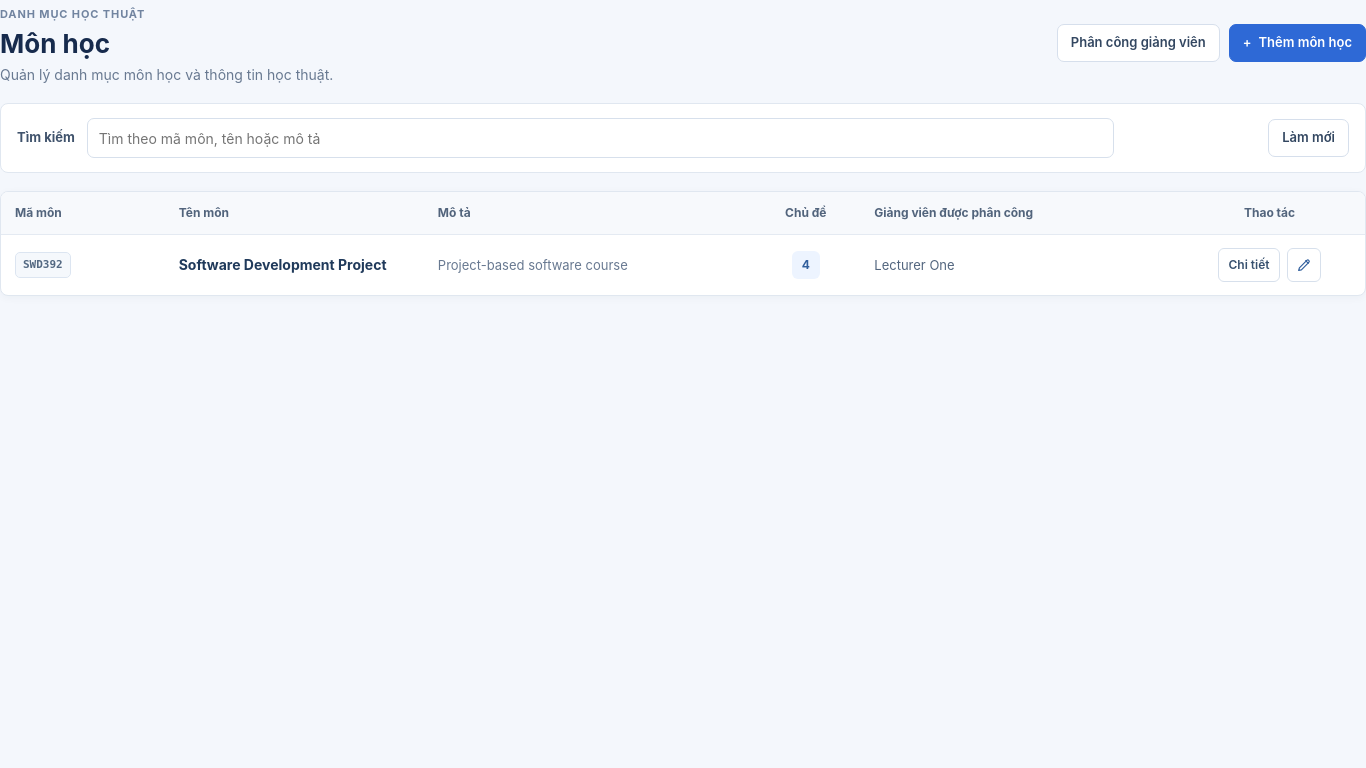
it: SubjectsPage › loads edit details, submits all fields, and updates the row from the server response
The width and height of the screenshot is (1366, 768).
Expected: the text "SWD392" is shown, x1=15 y1=252 x2=71 y2=278
Click the button named "Sửa".
click(1304, 265)  # box x1=1286 y1=248 x2=1320 y2=282
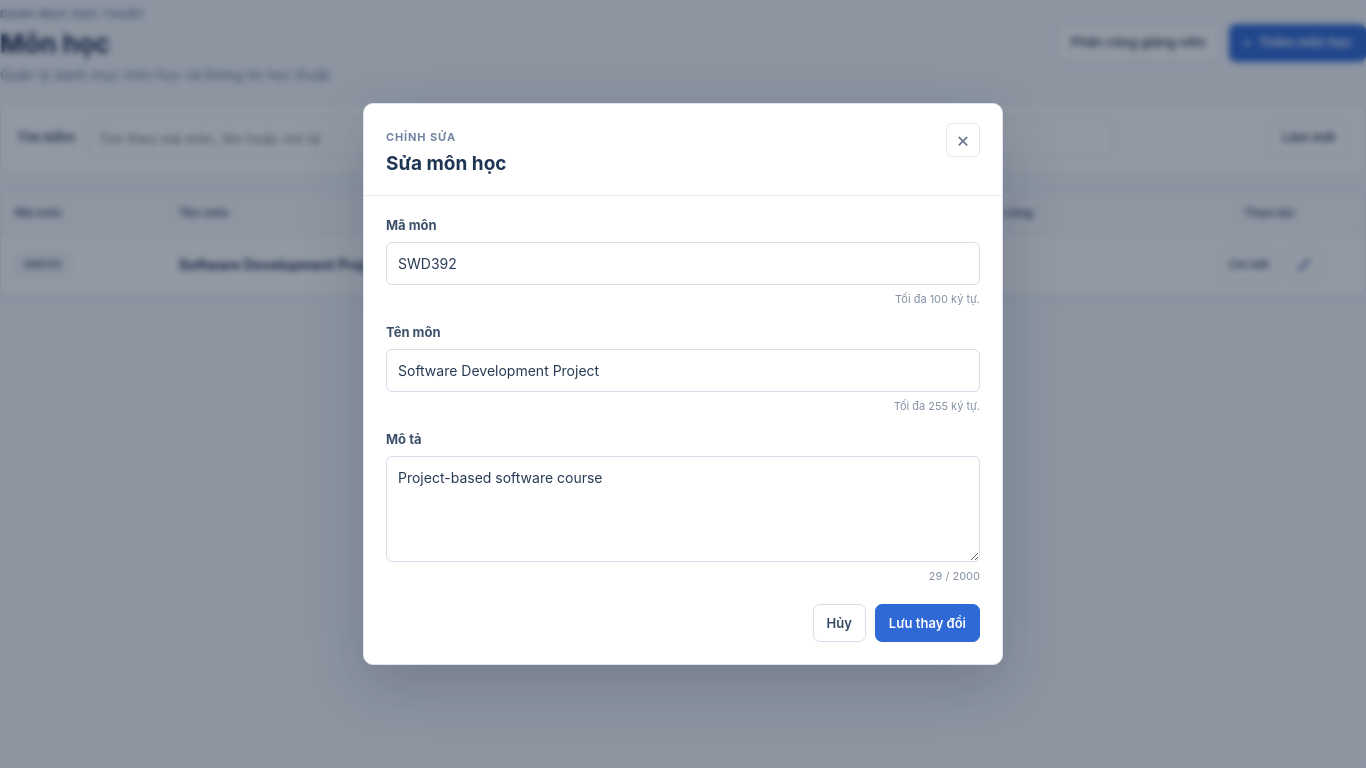
Result: the field showing "Software Development Project" is shown at x1=386 y1=349 x2=980 y2=392
Replace the text in the field labelled "Mã môn" with "SWD393" at (683, 263), box x1=386 y1=242 x2=980 y2=285
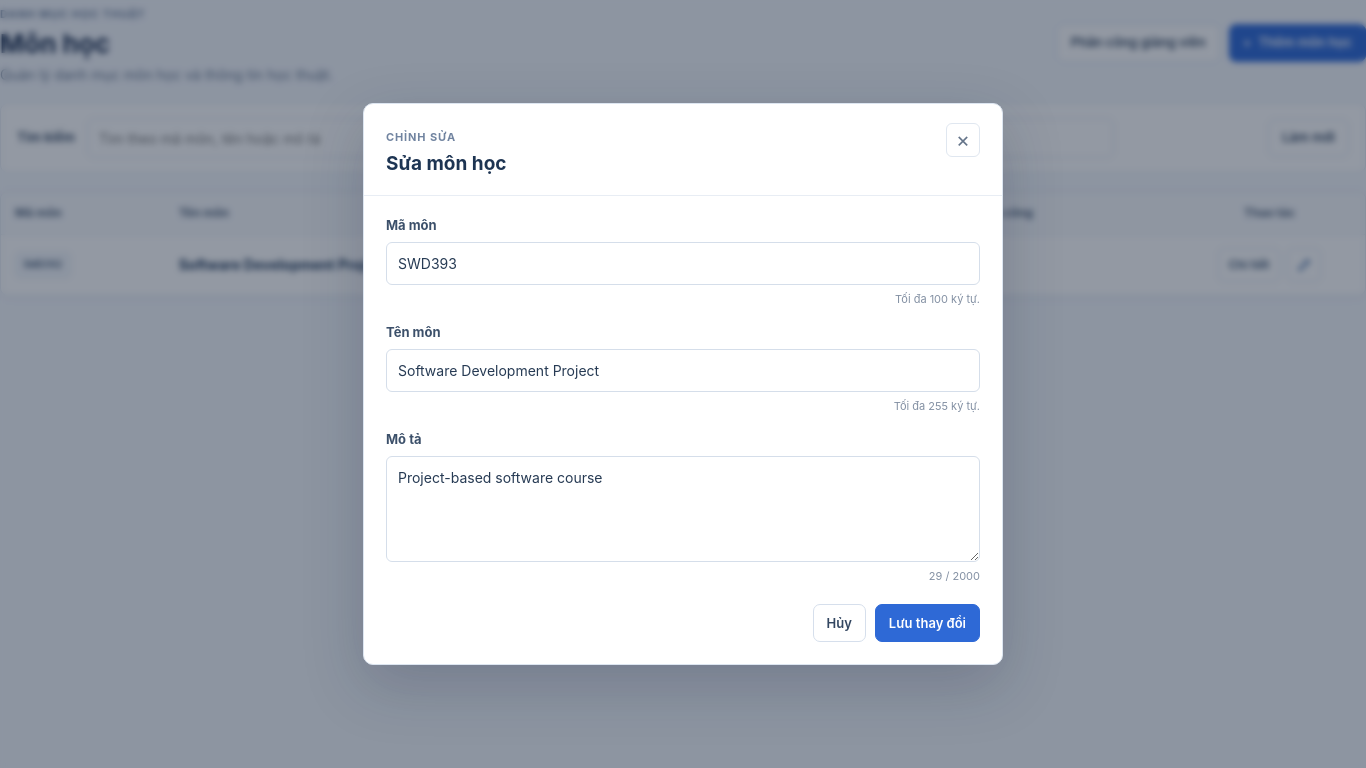
Replace the text in the field labelled "Tên môn" with "Updated Project" at (683, 370), box x1=386 y1=349 x2=980 y2=392
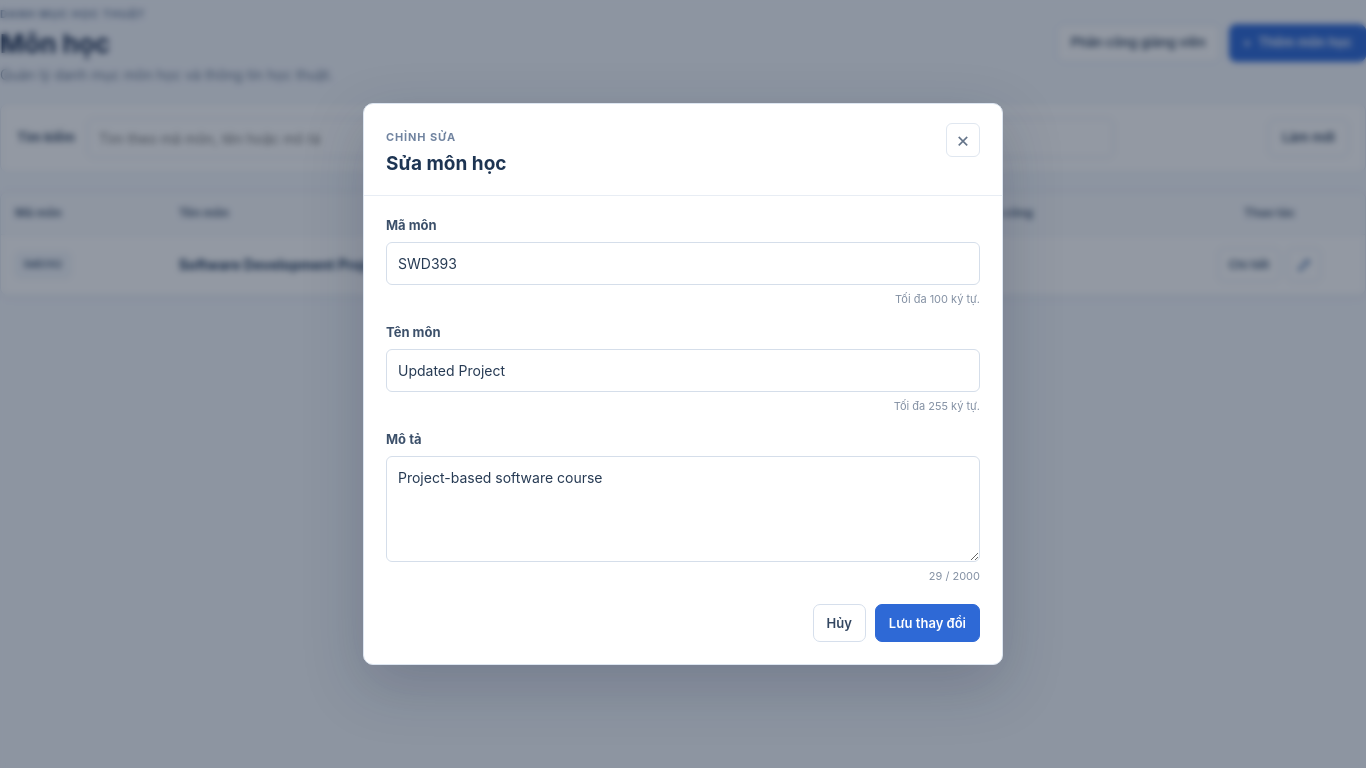
Clear the text box labelled "Mô tả" at (683, 509), box x1=386 y1=456 x2=980 y2=562
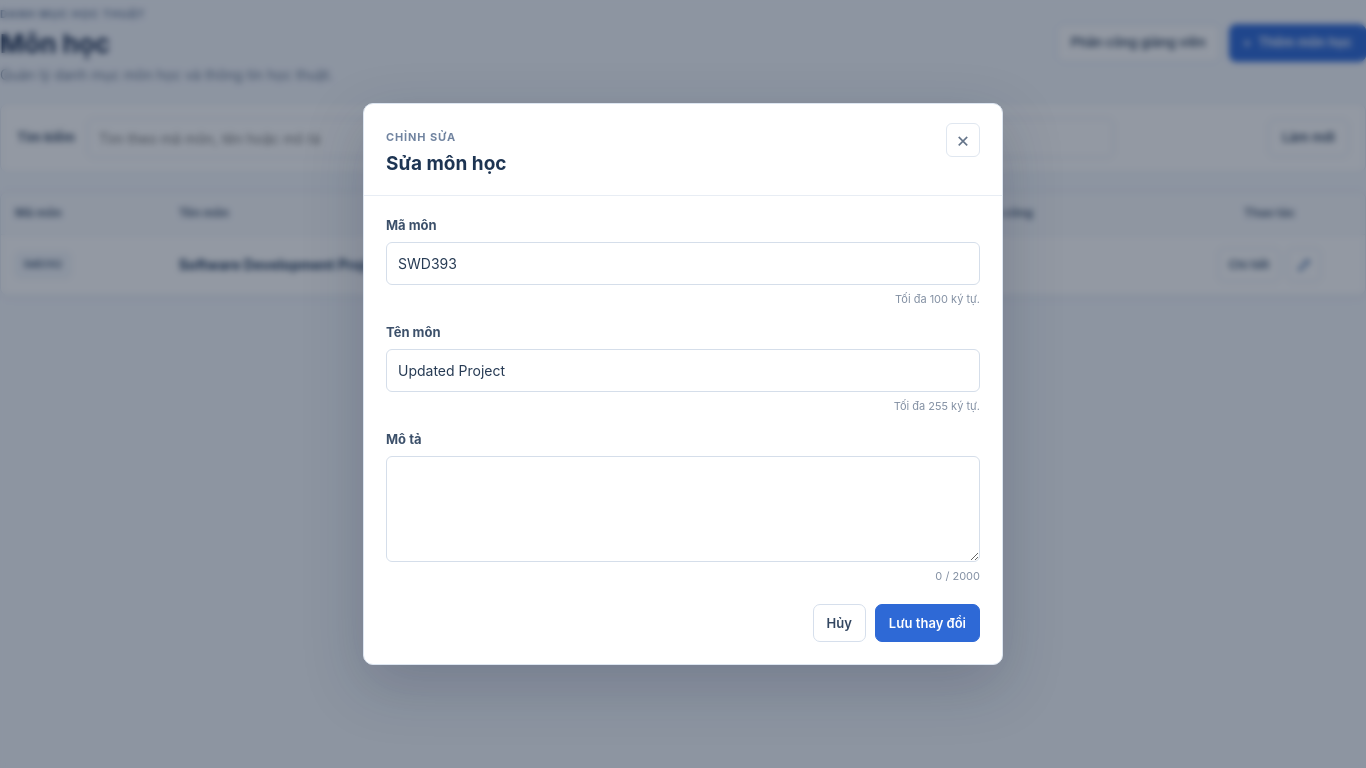
Click the button "Lưu thay đổi".
click(927, 623)  # box x1=875 y1=604 x2=980 y2=642
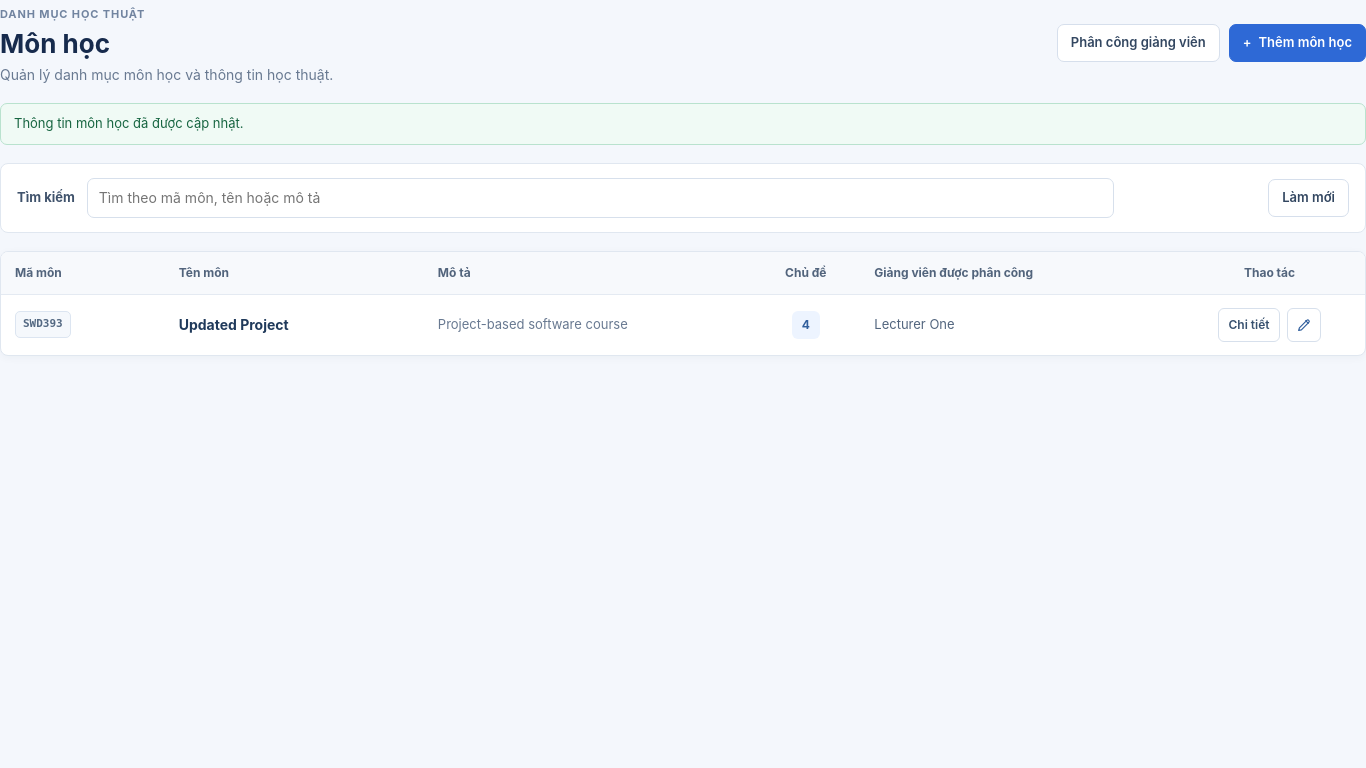
Result: the text "SWD393" is shown at x1=15 y1=311 x2=71 y2=338
Result: the button "Updated Project" is shown at x1=179 y1=314 x2=289 y2=335
Result: the text "SWD392" is gone
